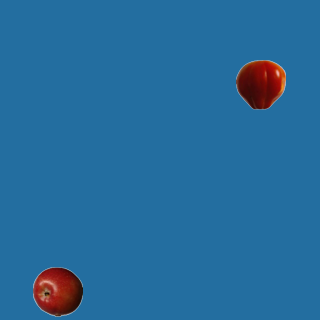Apple Braeburn: (32, 266, 82, 316)
Tomato 1: (235, 59, 285, 109)
